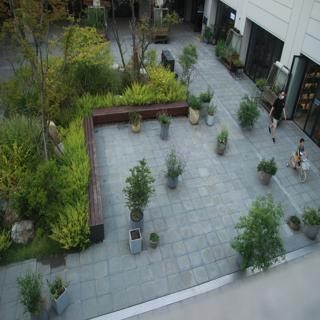person: (269, 86, 289, 149), (291, 127, 312, 185)
